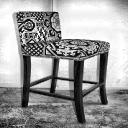chair_success: (7, 6, 114, 126)
